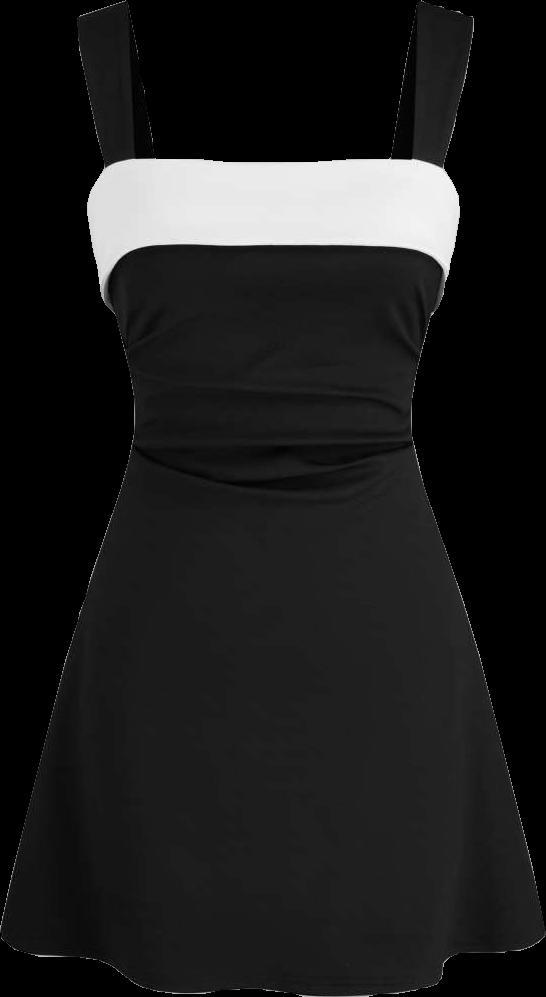Bodice: (77, 0, 473, 460)
Hemline: (0, 927, 545, 996)
Neckline: (117, 0, 429, 174), (97, 235, 449, 304)
Skirt: (1, 461, 545, 995)
